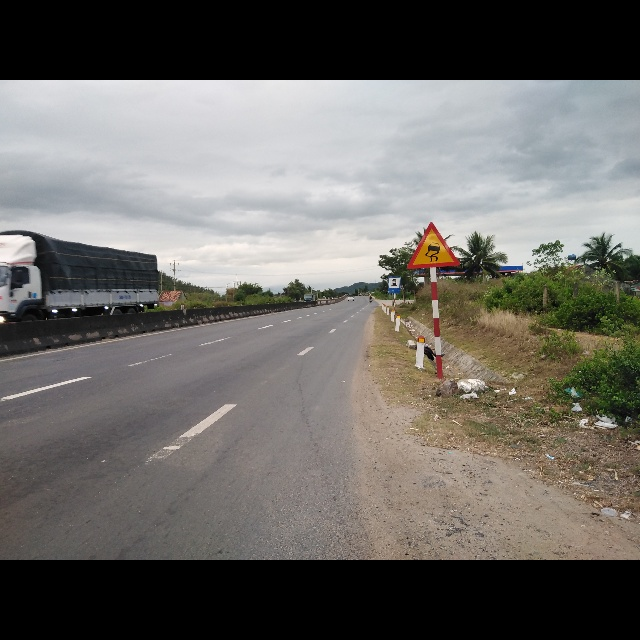Đường trơn trượt: (406, 219, 458, 270)
